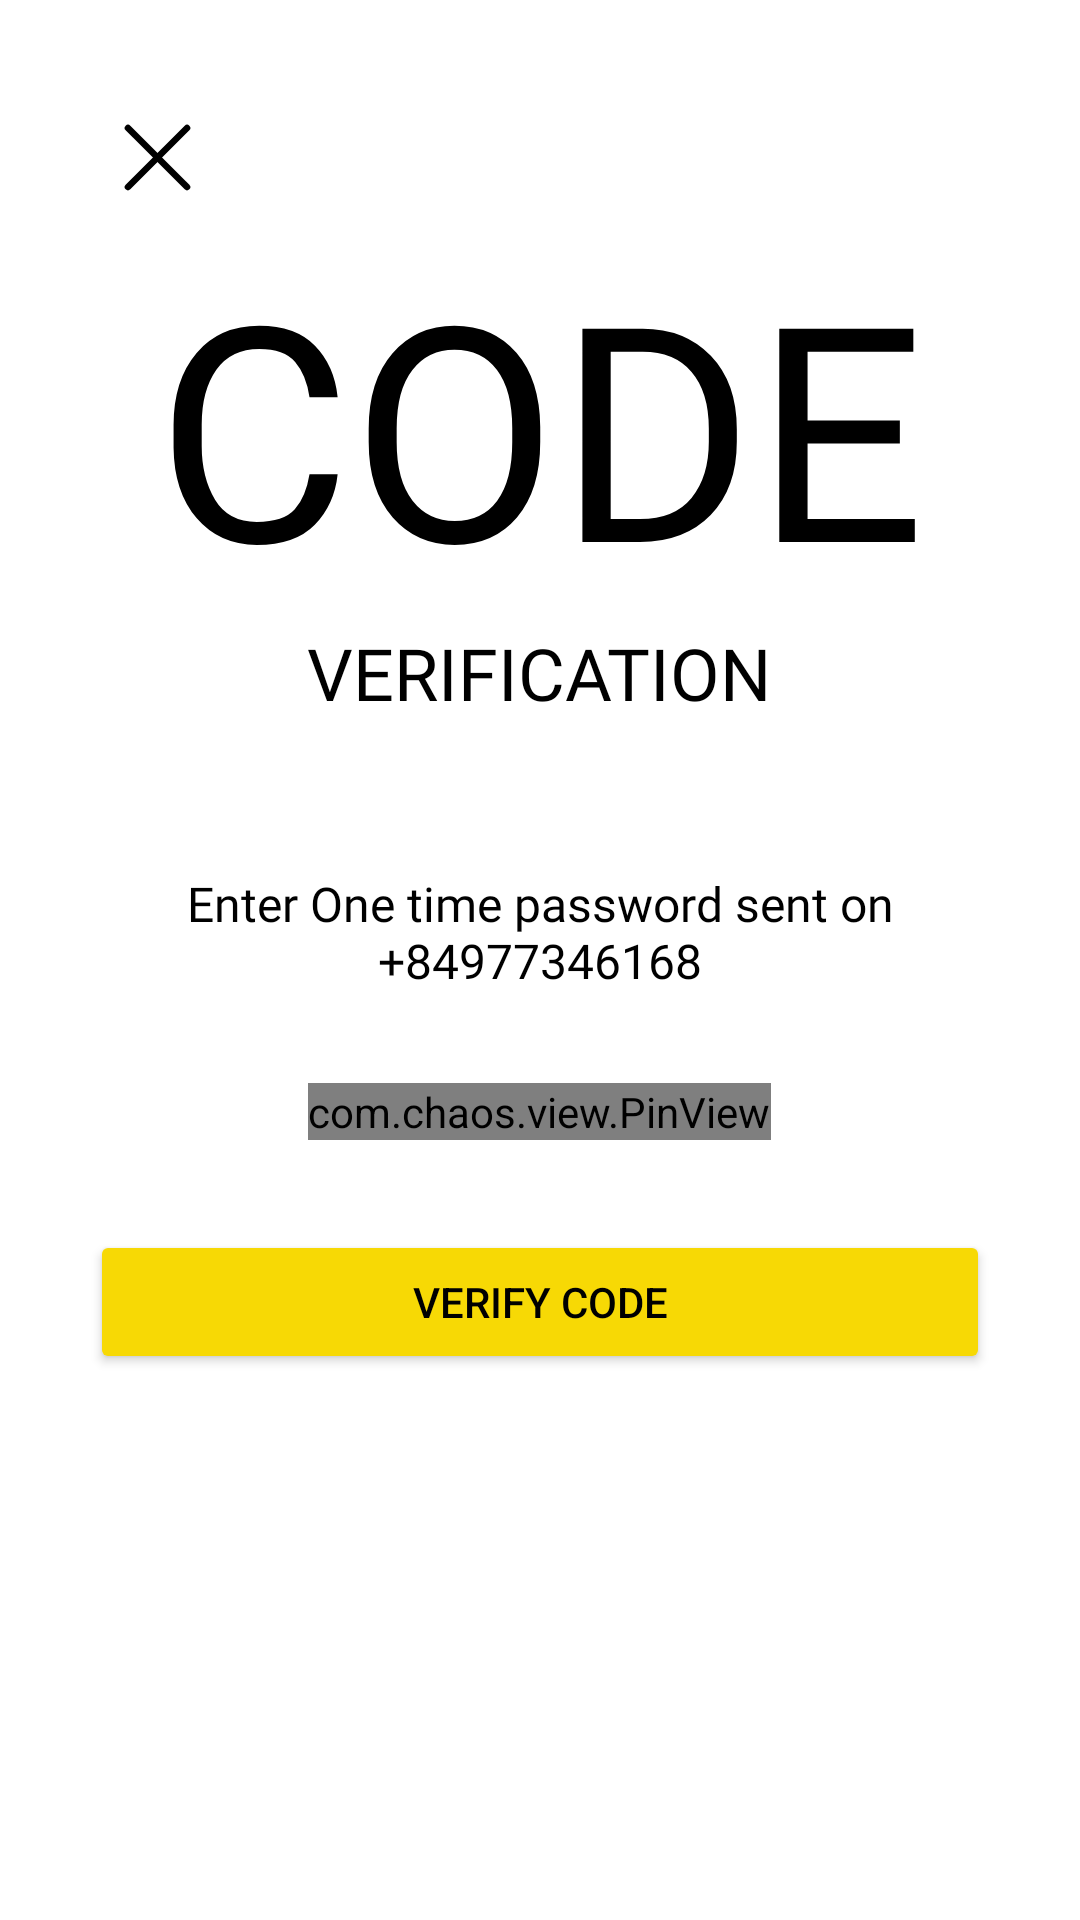

Icons on this 1080px×1920px Android screen, each with its box as detection(x1, y1, x2, y2):
close: detection(124, 124, 191, 191)
